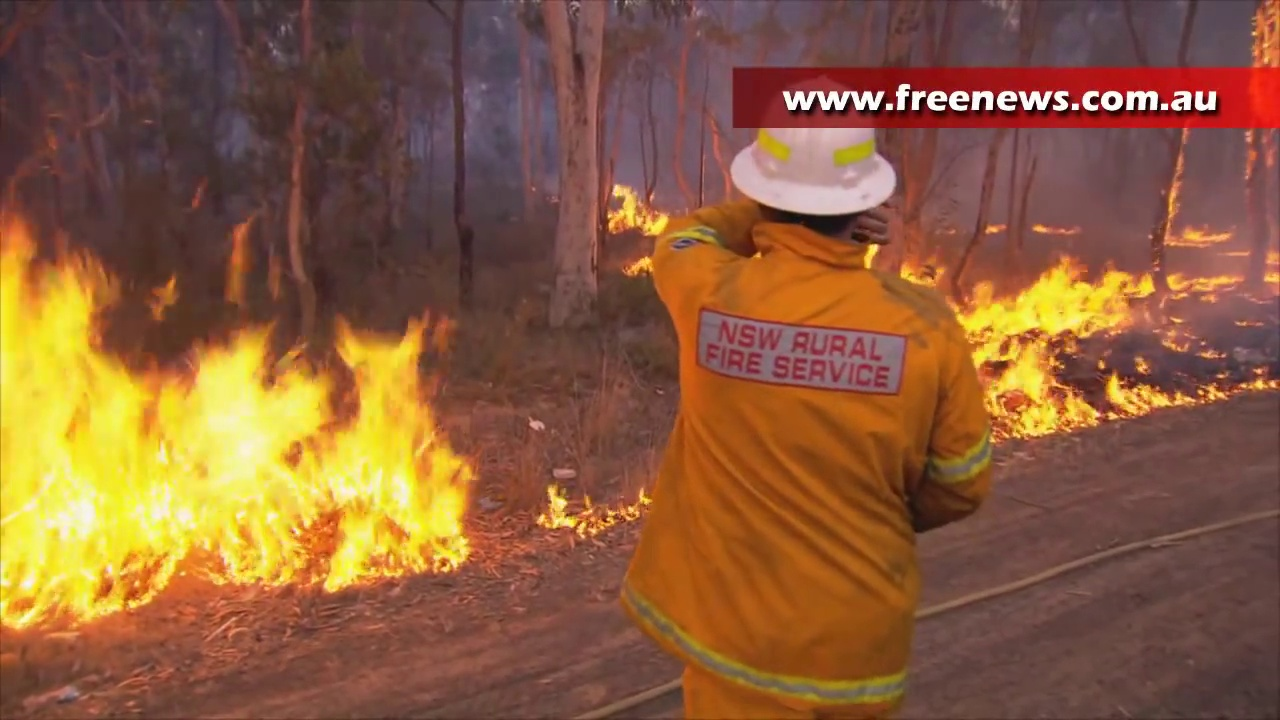fire: (1, 233, 471, 621), (968, 259, 1156, 432), (543, 487, 648, 526), (609, 184, 663, 235)
